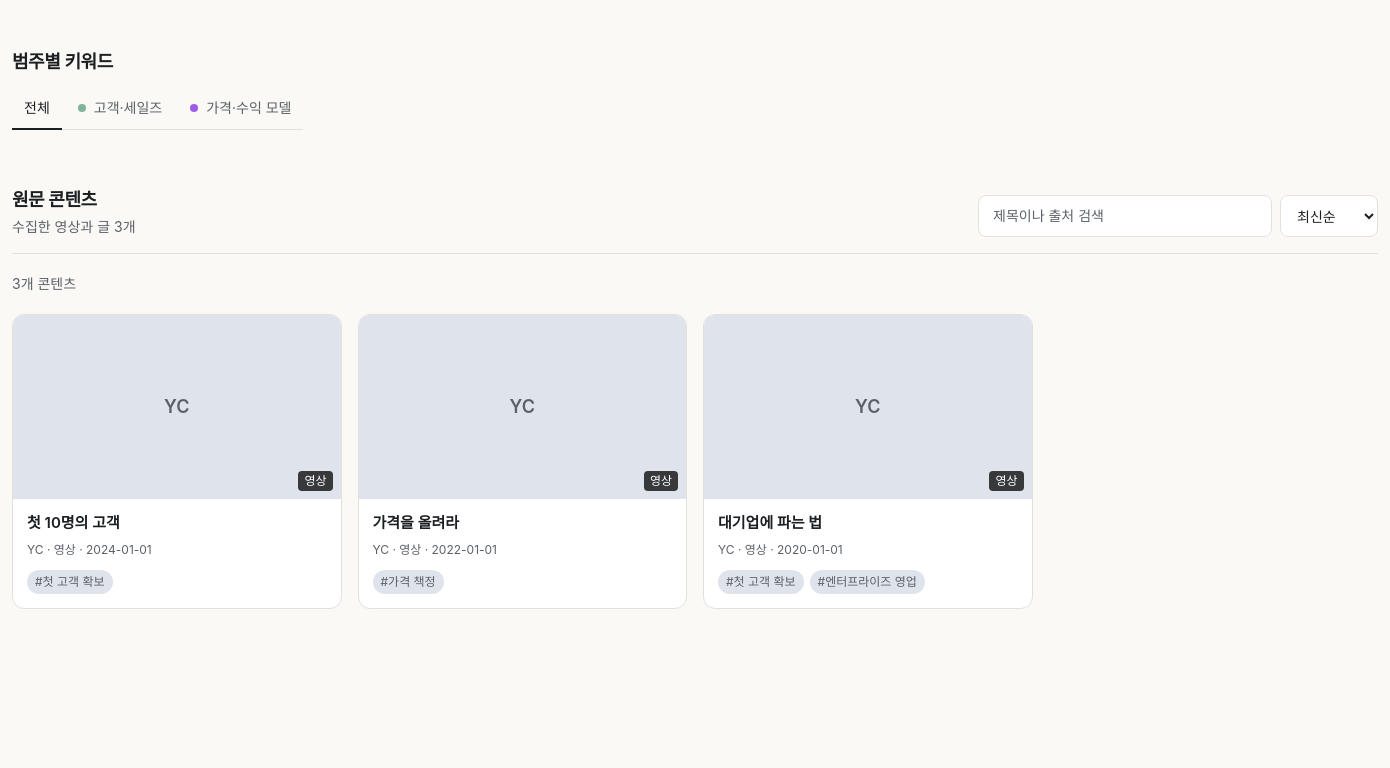
links to the keyword page only when the selected keyword has one
Click the tab "고객·세일즈": x=120, y=108 [66, 87, 174, 130]
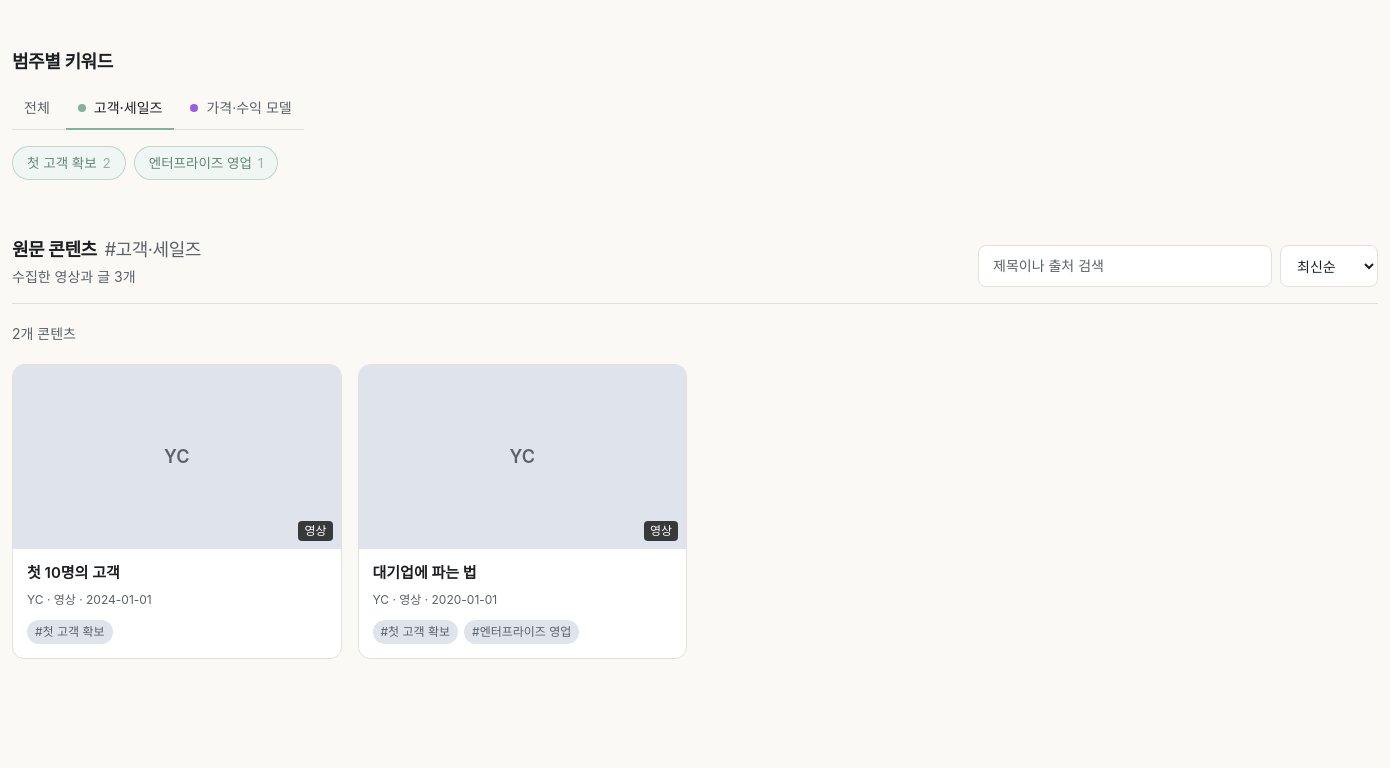
Click the button "첫 고객 확보 2": x=69, y=163 [12, 146, 126, 180]
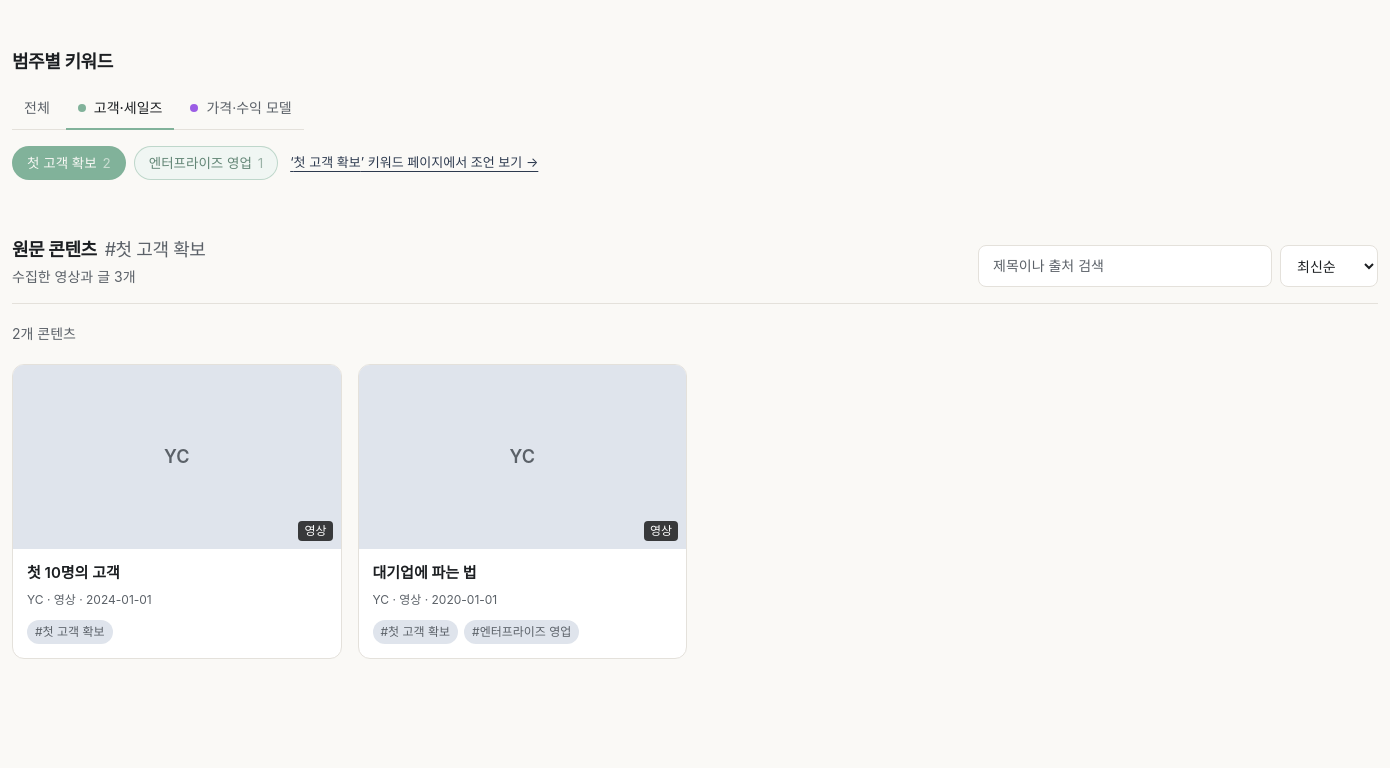
Click the button "엔터프라이즈 영업 1": x=206, y=163 [134, 146, 278, 180]
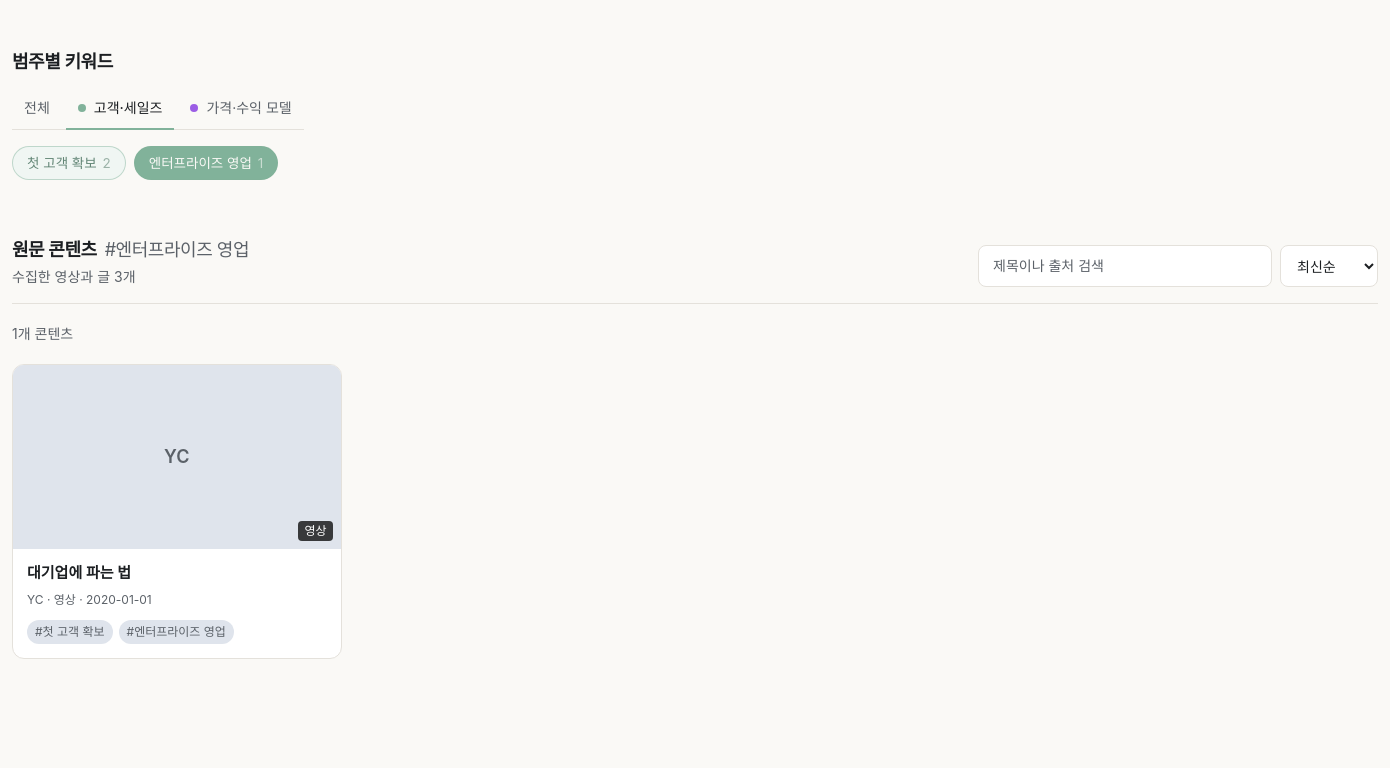
Expected: the link "키워드 페이지" is gone
